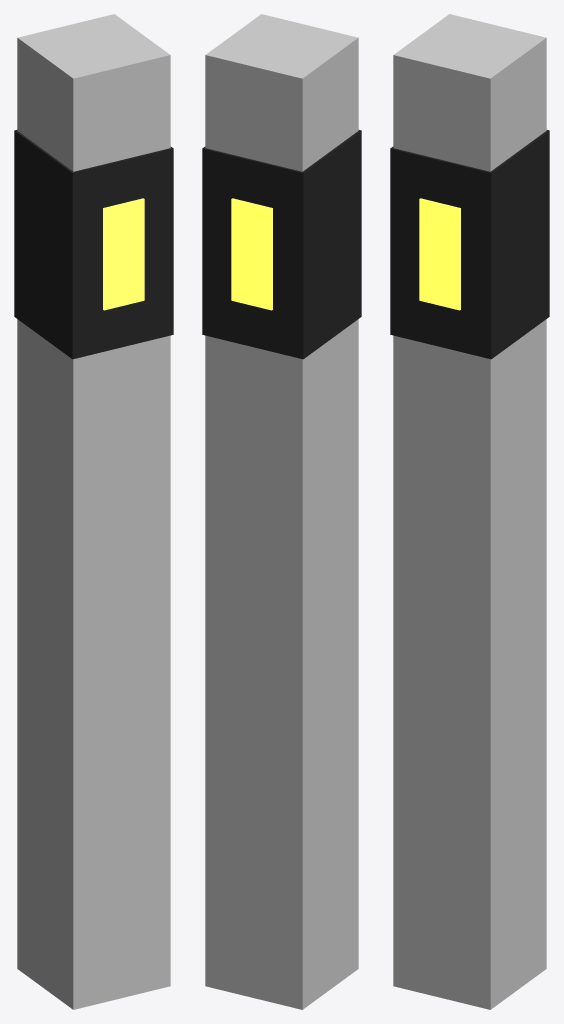
Rendered from reflector_post.glb.
The picture shows the model from 3 angles, left to right: view 1: azimuth 30°, elevation 25°; view 2: azimuth 150°, elevation 25°; view 3: azimuth 330°, elevation 25°; orthographic projection.
Visible parts, largest first — view 1: reflector_post; view 2: reflector_post; view 3: reflector_post.
Boxes of the visible parts, box(x1,y1,x2,y2) form: reflector_post: box(14, 14, 173, 1009); reflector_post: box(202, 14, 361, 1009); reflector_post: box(390, 14, 549, 1009).
Bounding box in the file's own units: 0.125 × 1.1 × 0.13.
